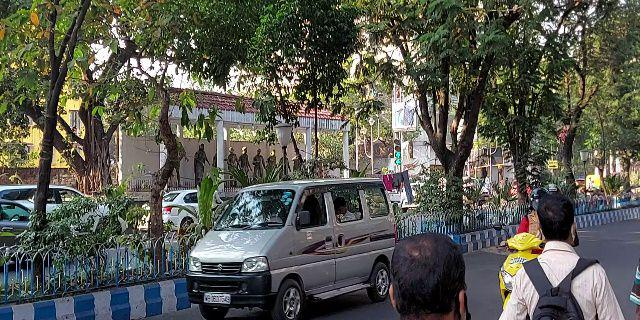Van: (181, 174, 400, 320)
